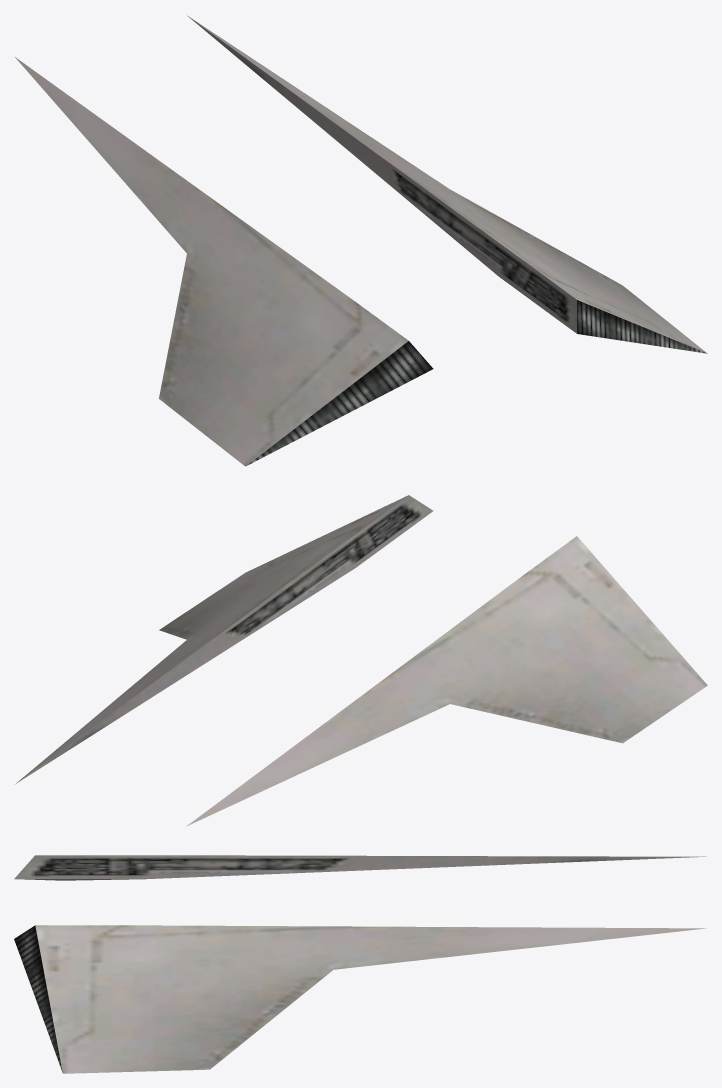
Rendered from hutt_fighter_medium_struct_s01_l3.fbx.
The picture shows the model from 3 angles, top to bottom: view 1: azimuth 30°, elevation 25°; view 2: azimuth 150°, elevation 25°; view 3: azimuth 270°, elevation 25°; orthographic projection. The views are drawn at different scales.
Parts seen in each view (by area): view 1: mesh_node; view 2: mesh_node; view 3: mesh_node.
Boxes of the visible parts, x1=… form: mesh_node: x1=15, y1=15, x2=707, y2=466; mesh_node: x1=15, y1=495, x2=707, y2=826; mesh_node: x1=14, y1=855, x2=706, y2=1073.
Size of the model in its own units: 13.72 by 2.87 by 20.77.
